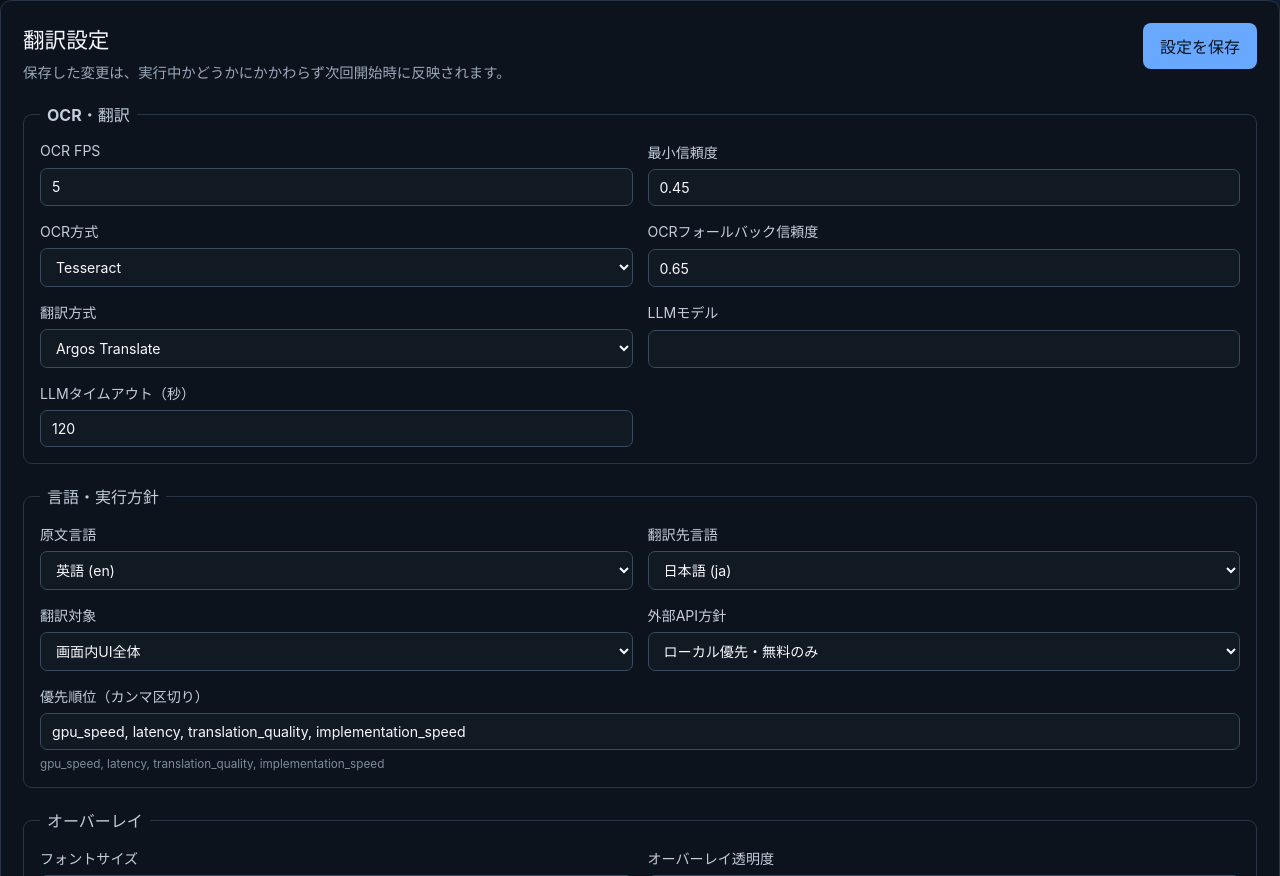
Test: SettingsPanel › 設定保存後に再取得し、次回開始から反映されることを表示する
The width and height of the screenshot is (1280, 876).
Replace the text in the number field labelled "OCR FPS" with "2.5" at (336, 187), box x1=40 y1=168 x2=632 y2=206
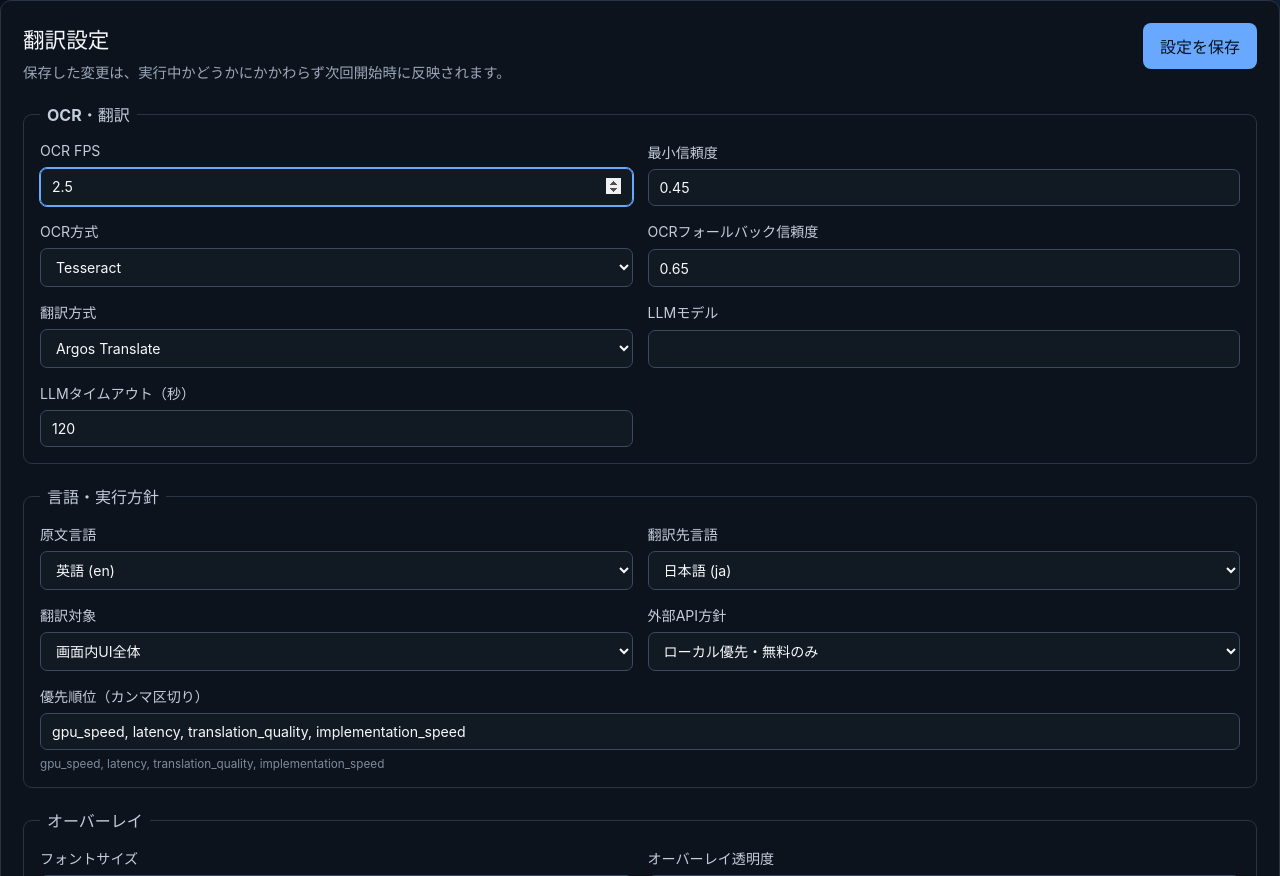
Click the button "設定を保存" at (1200, 46), box x1=1143 y1=23 x2=1257 y2=69
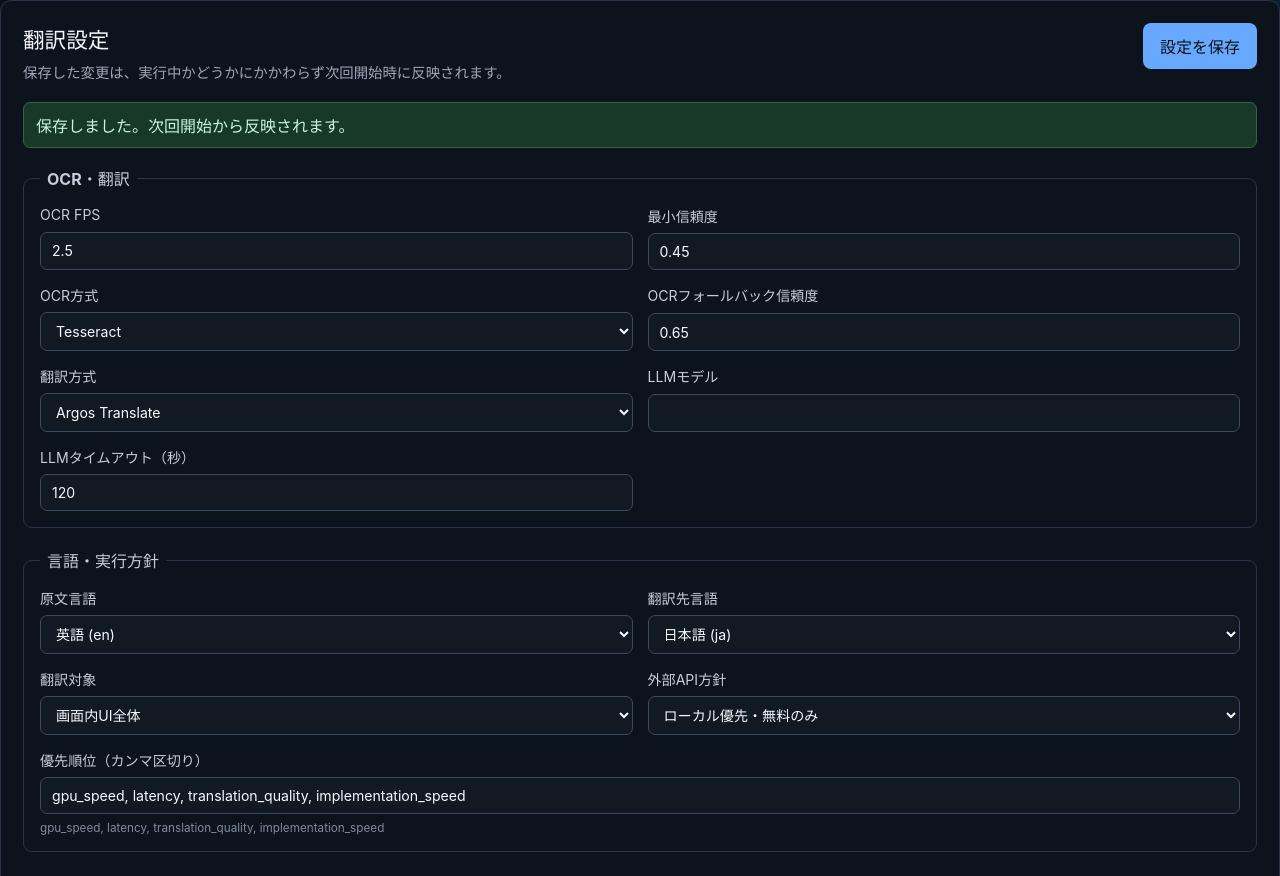
Check: the message shows "次回開始から反映", box x1=36 y1=116 x2=354 y2=136
